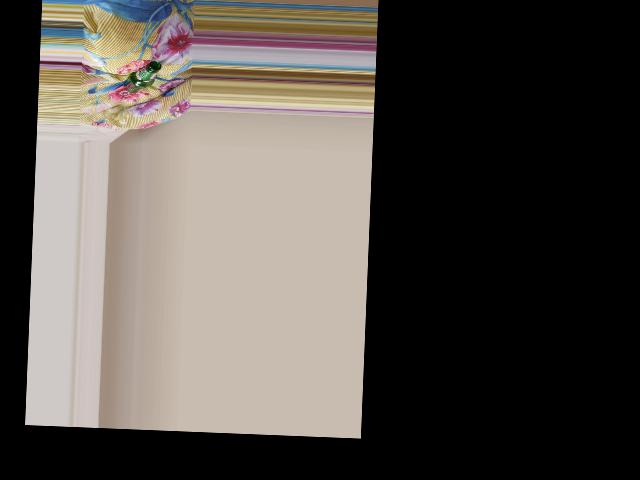beer: (124, 59, 162, 94)
